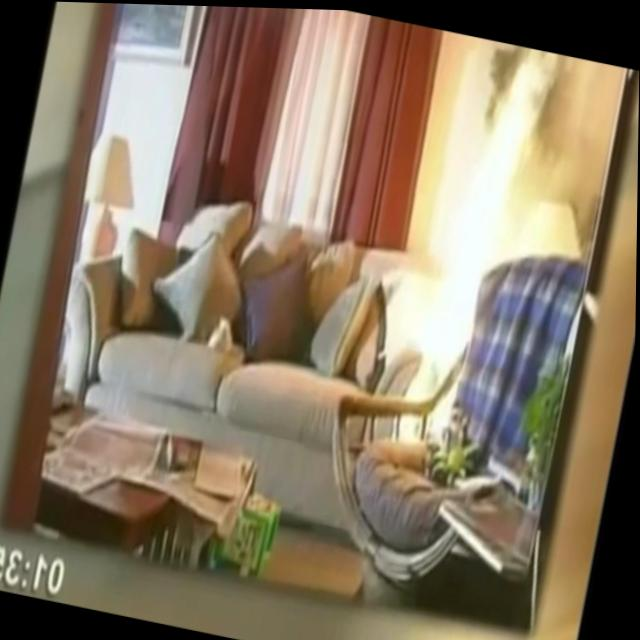fire: (367, 26, 573, 459)
